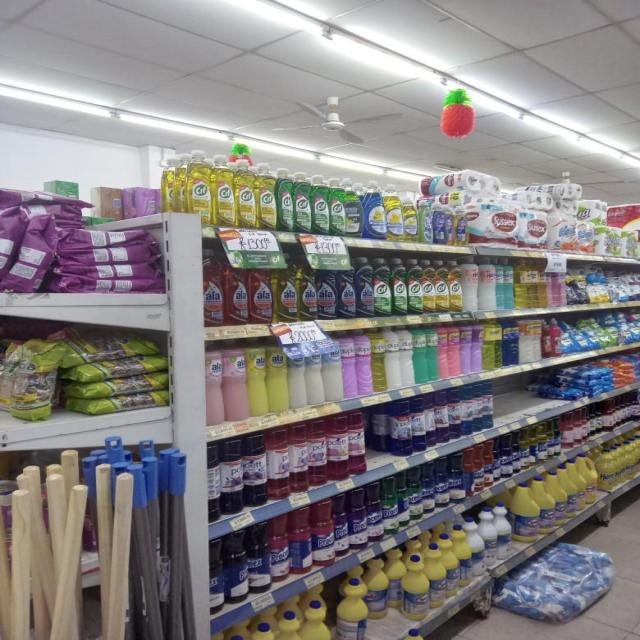ala_conc_amarillo: (274, 254, 298, 323), (298, 255, 317, 321)
ala_conc_azul: (317, 258, 336, 320), (338, 258, 356, 319), (356, 256, 373, 318)
ala_conc_rojo: (225, 249, 248, 326), (249, 252, 273, 324), (204, 247, 224, 327)
ala_crem_amarillo: (247, 339, 267, 417), (267, 338, 288, 412)
ala_crem_blanco: (288, 339, 306, 409), (306, 337, 324, 406), (324, 334, 342, 402), (386, 327, 400, 389), (463, 260, 478, 311)
ala_crem_rosado: (224, 340, 247, 422), (206, 342, 223, 426)
cif_conc_bot_amarilla: (188, 150, 212, 223), (212, 154, 234, 228), (236, 157, 255, 229), (256, 162, 276, 230), (434, 260, 448, 313), (448, 260, 462, 312), (422, 259, 435, 314)
cif_conc_botella_verde: (276, 168, 293, 232), (374, 257, 391, 317), (294, 171, 310, 233), (312, 174, 328, 235), (329, 178, 345, 236), (392, 257, 406, 316), (408, 258, 422, 315)
magistral_con_amarillo: (386, 185, 402, 241), (403, 191, 418, 242)
